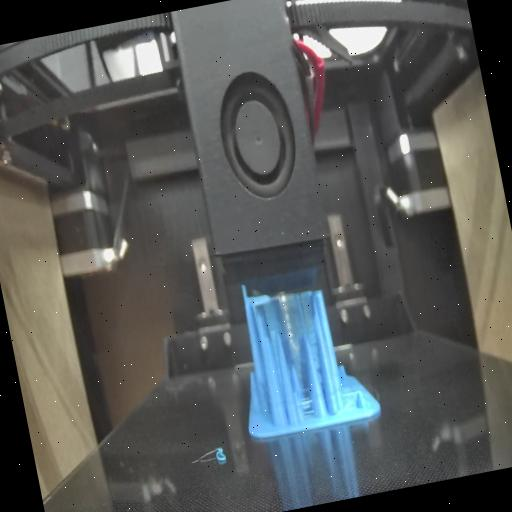stringing: (260, 288, 318, 346), (296, 392, 318, 422)
